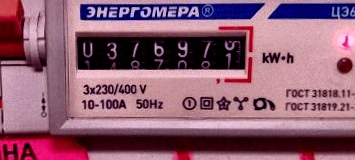0: (80, 38, 94, 58)
1: (223, 50, 234, 69)
3: (104, 39, 118, 60)
6: (151, 36, 165, 57)
7: (127, 37, 141, 58), (199, 37, 212, 59)
9: (175, 37, 188, 58)
screen: (67, 20, 258, 86)
